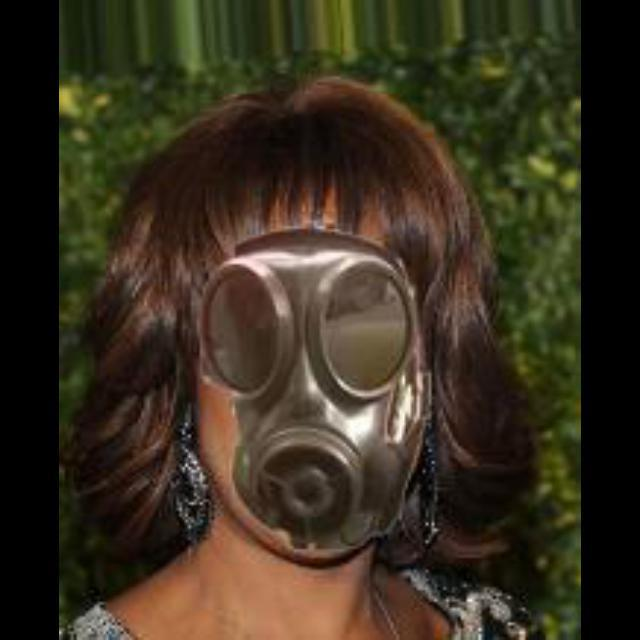suspicion: (133, 128, 494, 560)
